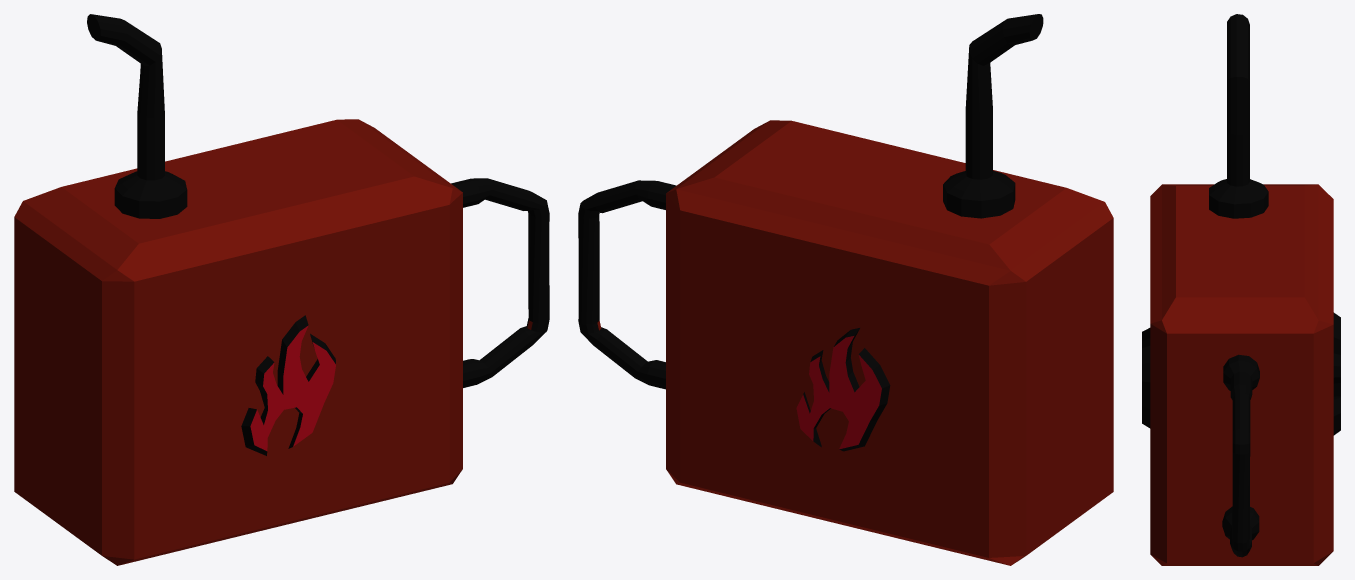
File: GasolineBottle.fbx
The picture shows the model from 3 angles, left to right: view 1: azimuth 30°, elevation 25°; view 2: azimuth 150°, elevation 25°; view 3: azimuth 270°, elevation 25°; orthographic projection. The views are drawn at different scales.
Parts seen in each view (by area): view 1: Cube; view 2: Cube; view 3: Cube.
Boxes of the visible parts, left/top/right/bottom form: Cube: left=14, top=14, right=549, bottom=565; Cube: left=578, top=14, right=1113, bottom=565; Cube: left=1142, top=14, right=1340, bottom=565.
Size of the model in its own units: 2.25 by 2.24 by 0.9511.
